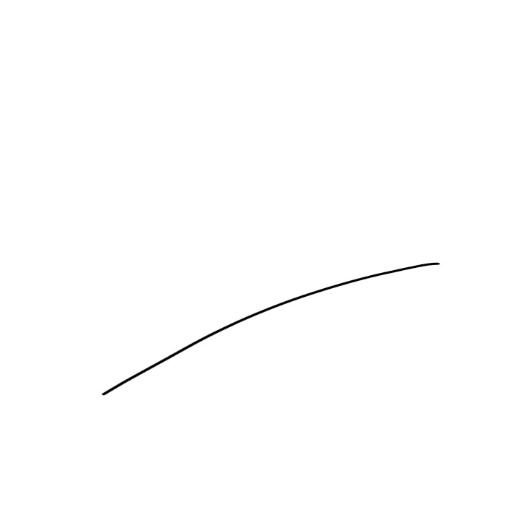line: (94, 257, 445, 402)
